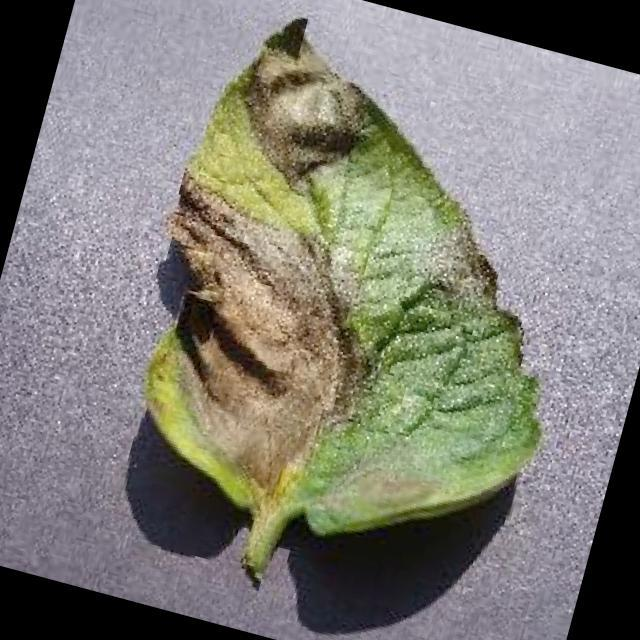Tomato late blight leaf: (97, 0, 631, 582)
